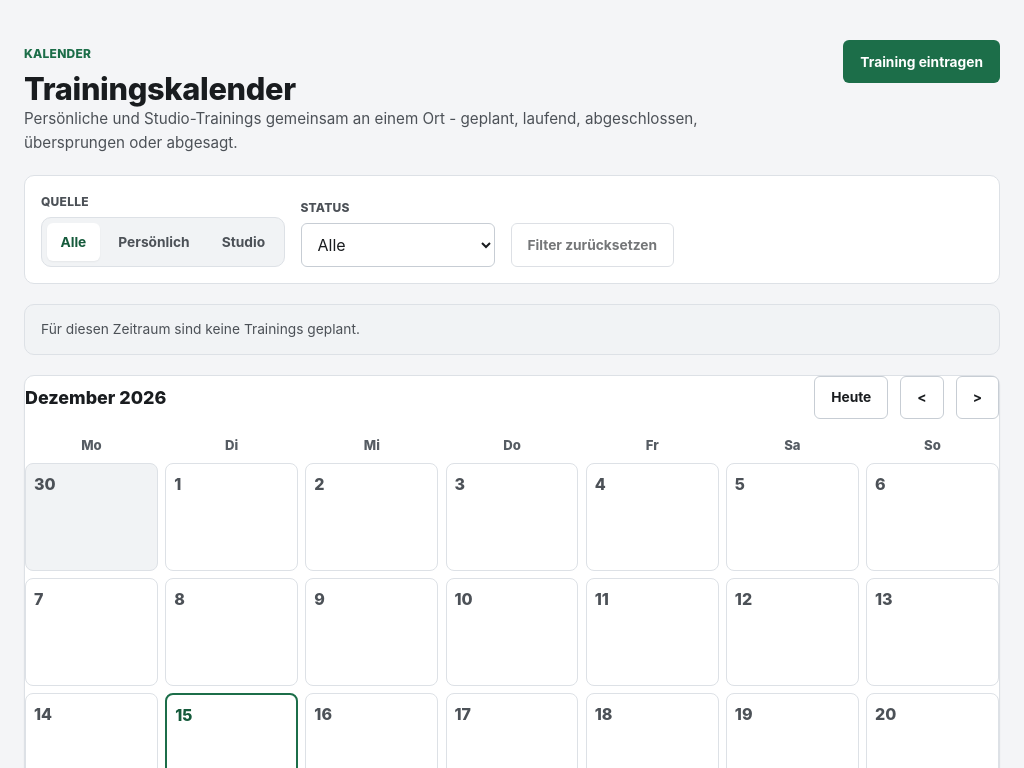
Test: CalendarView › year boundary: navigating from December into January shows an entry actually scheduled in the new year
What coordinates should you click on to do the following:
click the button named "Nächster Monat"
I would click on:
 (977, 397)
Its box is [956,376,999,419].
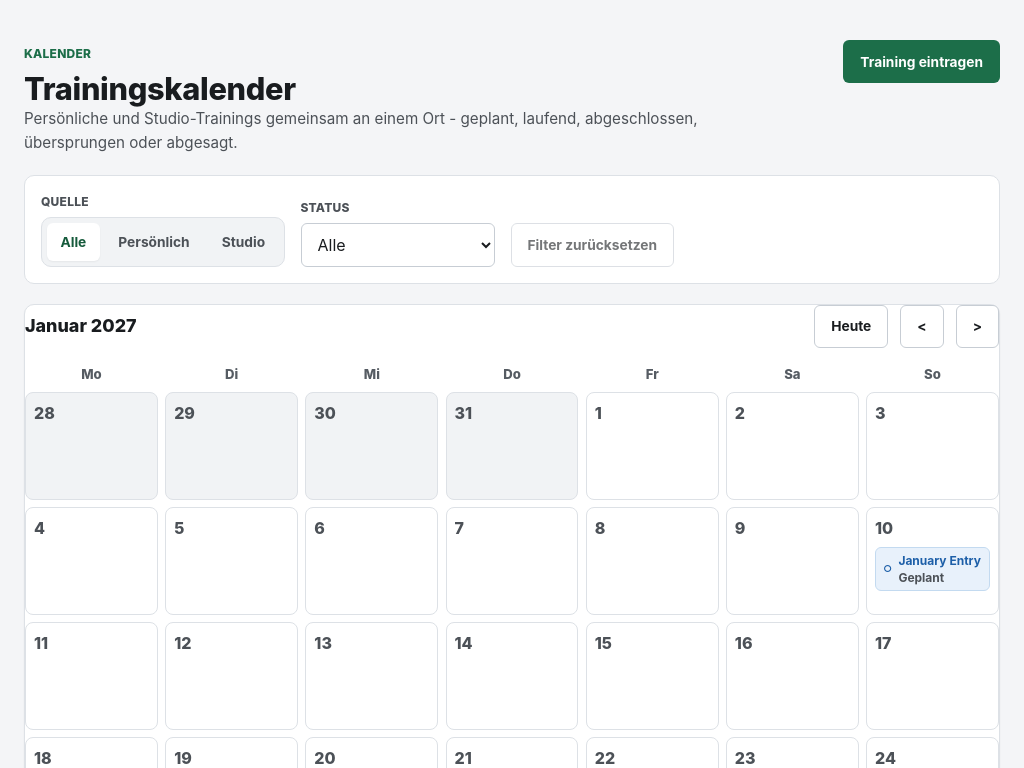
Expected: the text "Januar 2027" is shown, [25,315,137,337]
Expected: the text "January Entry" is shown, [898,553,982,568]
